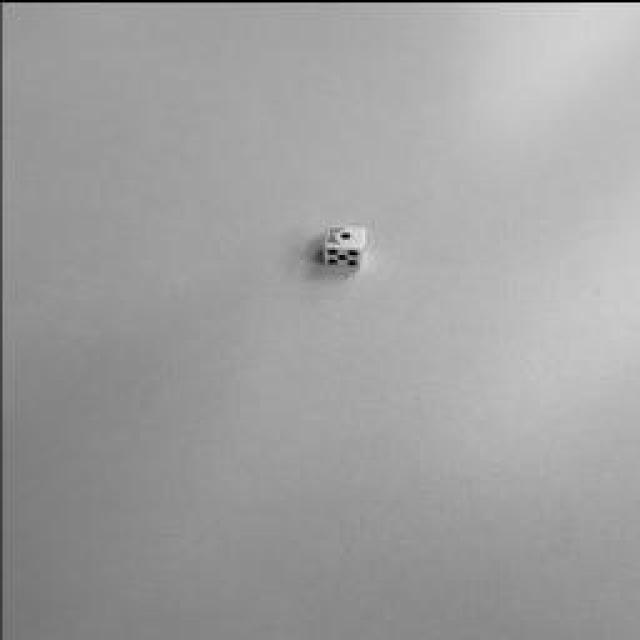dice_1: (325, 224, 365, 246)
